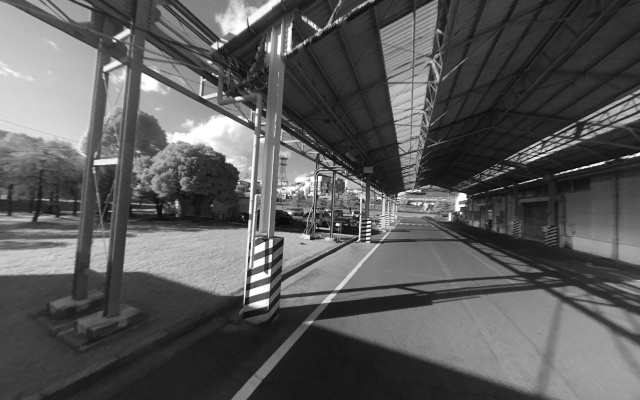bollard: (245, 236, 285, 318), (358, 217, 372, 241), (545, 225, 559, 248), (511, 220, 523, 238)
